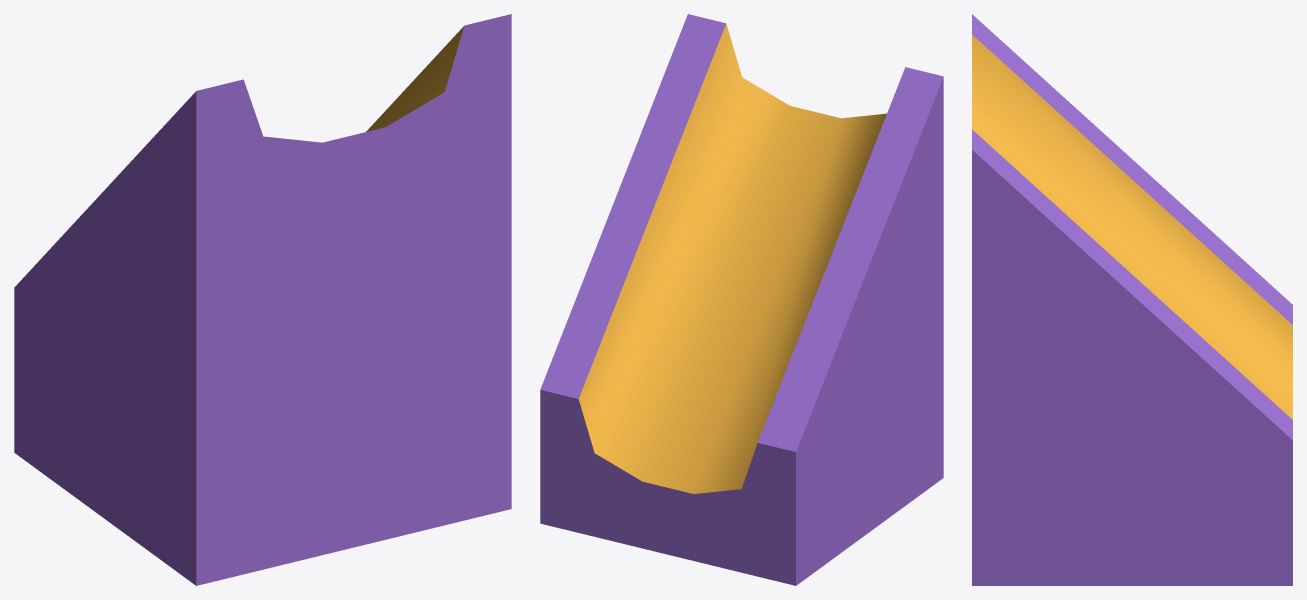
The model's file is slant-solid-c.glb.
The picture shows the model from 3 angles, left to right: view 1: azimuth 30°, elevation 25°; view 2: azimuth 150°, elevation 25°; view 3: azimuth 270°, elevation 25°; orthographic projection. The views are drawn at different scales.
Visible parts, largest first — view 1: slant-solid-c; view 2: slant-solid-c; view 3: slant-solid-c.
Boxes of the visible parts, left/top/right/bottom form: slant-solid-c: left=14, top=14, right=511, bottom=585; slant-solid-c: left=540, top=14, right=943, bottom=585; slant-solid-c: left=972, top=14, right=1292, bottom=585.
Size of the model in its own units: 1 by 1.5 by 1.
1 material, 1 textured.
